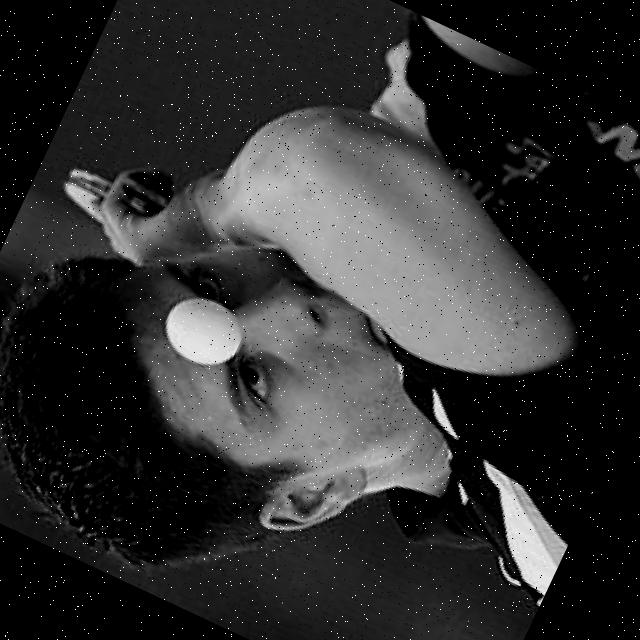ping-pong-ball: (149, 279, 252, 376)
